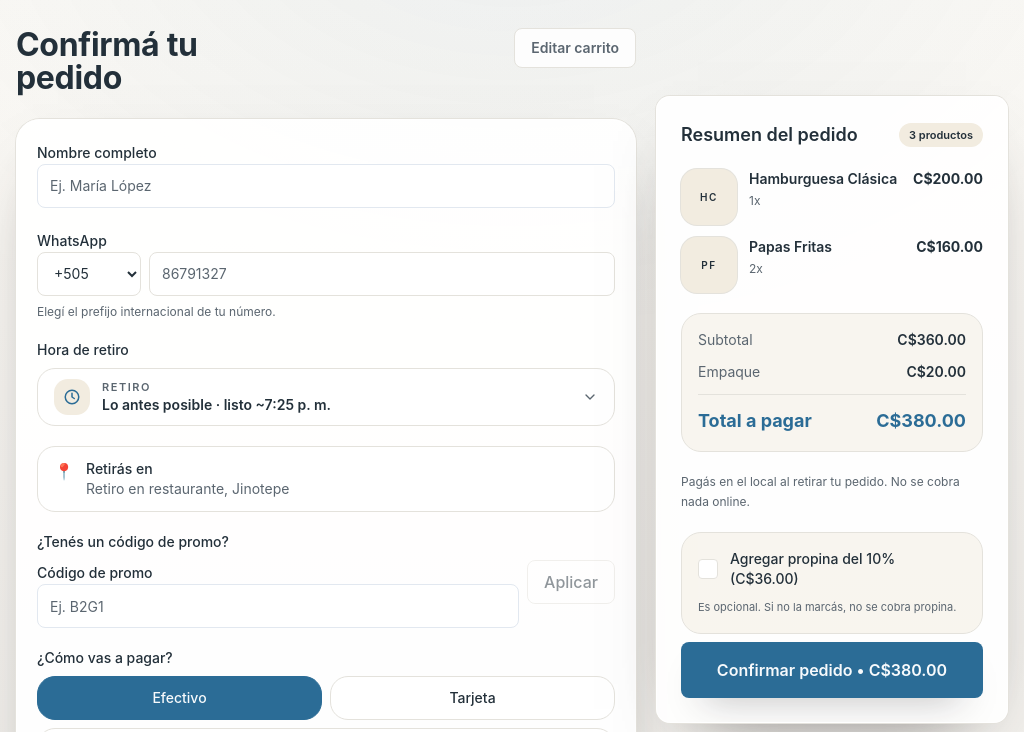
Scenario: checkout sin redundancias › un día que el negocio no atiende no deja confirmar (D1)
The width and height of the screenshot is (1024, 732).
Click the button "Retiro Lo antes posible · listo ~7:25 p. m.". click: (326, 397)
box: [37,368,615,426]
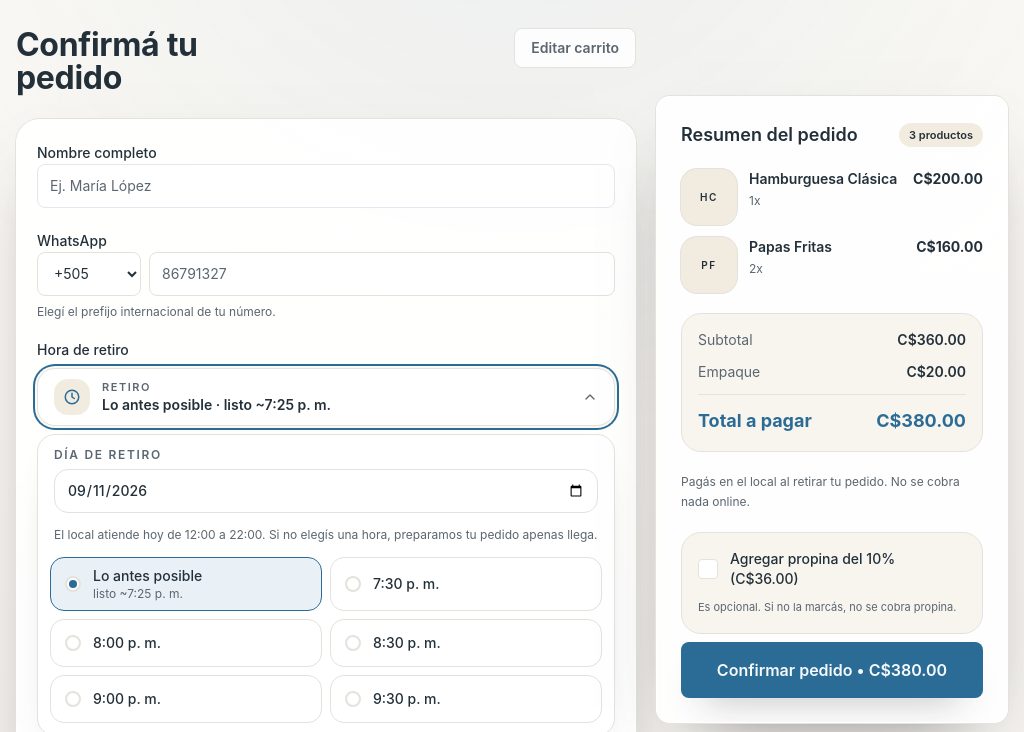
Type "2026-09-13" into the date field labelled "Día de retiro". click: (326, 491)
box: [54,469,598,513]
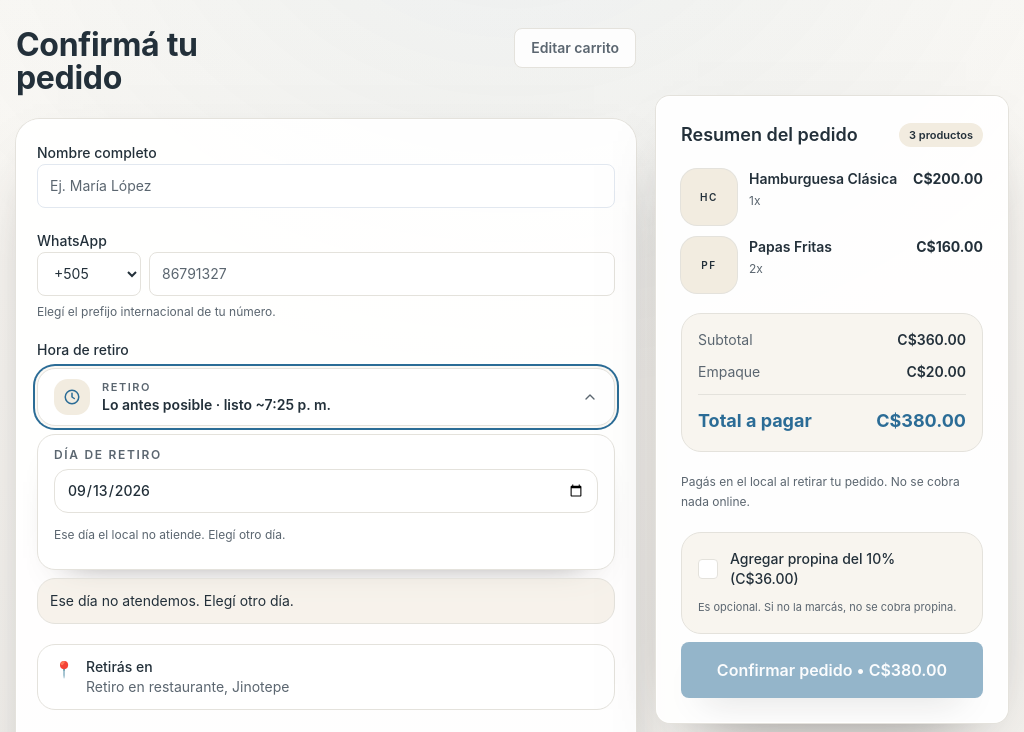
Expected: the text "Ese día no atendemos. Elegí otro día." is shown, [37,578,615,624]
Expected: the button "Confirmar pedido • C$380.00" is disabled, [681,642,983,698]
